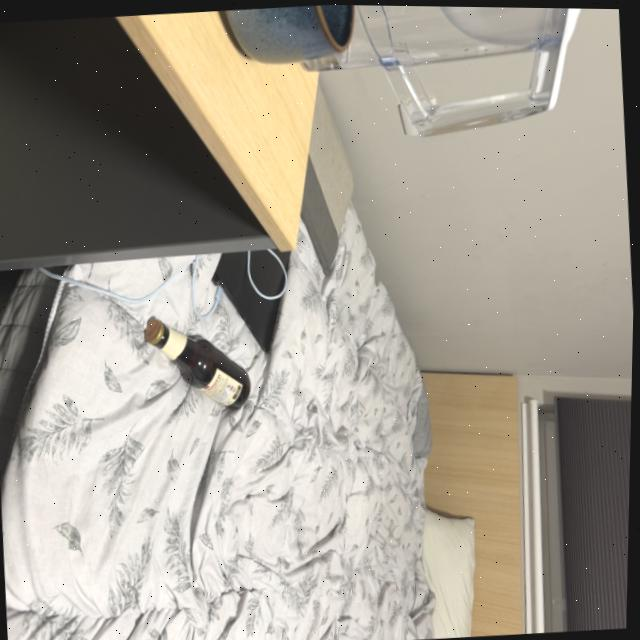beer: (140, 304, 257, 416)
